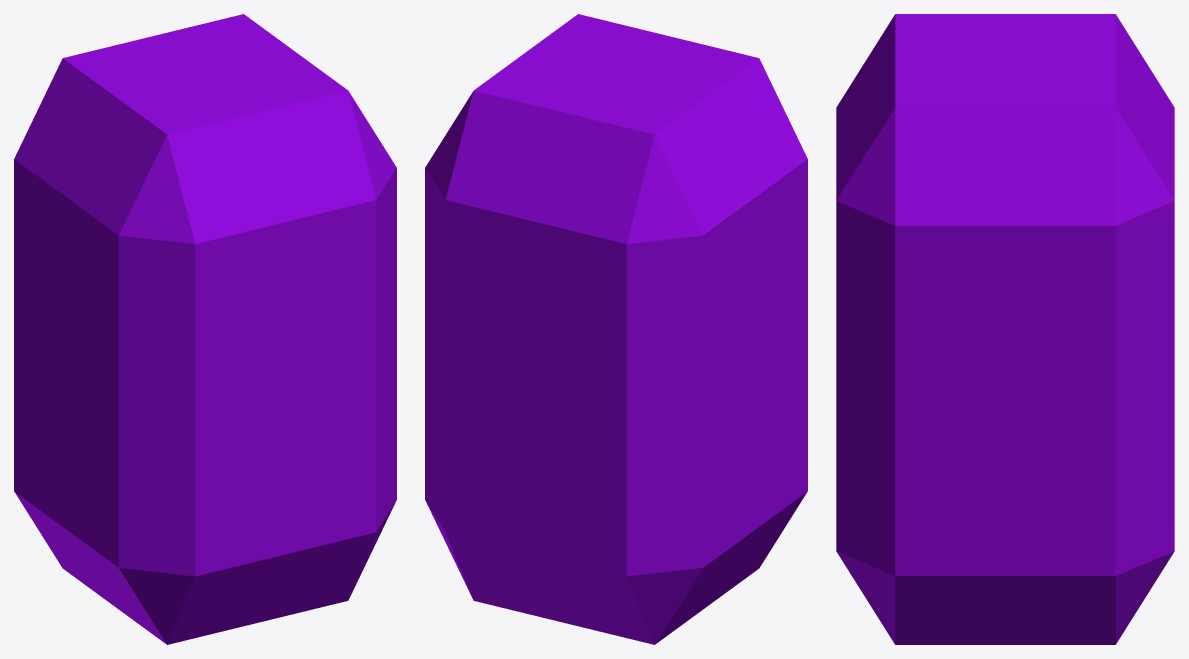
File: Crystal.fbx
3 renders of one model, left to right at view 1: azimuth 30°, elevation 25°; view 2: azimuth 150°, elevation 25°; view 3: azimuth 270°, elevation 25°, orthographic. The views are drawn at different scales.
Visible parts, largest first — view 1: Cube; view 2: Cube; view 3: Cube.
Part boxes in pixels (x1,y1,x2,y2): Cube: (14,14,396,644); Cube: (425,14,807,644); Cube: (836,14,1174,644).
Size of the model in its own units: 112 by 197 by 112.
